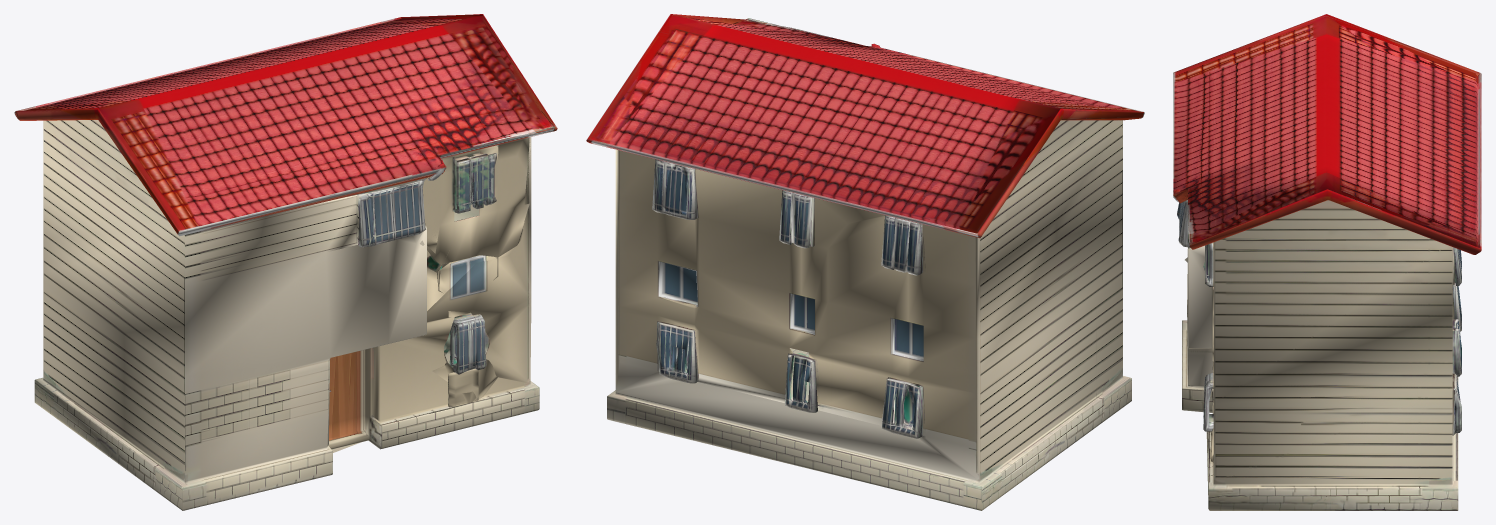
The model's file is bld_556597978.glb.
3 views of the same model, side by side, from view 1: azimuth 30°, elevation 25°; view 2: azimuth 150°, elevation 25°; view 3: azimuth 270°, elevation 25° (orthographic). The views are drawn at different scales.
Size of the model in its own units: 1.91 by 1.64 by 1.41.
1 material, 1 textured.
